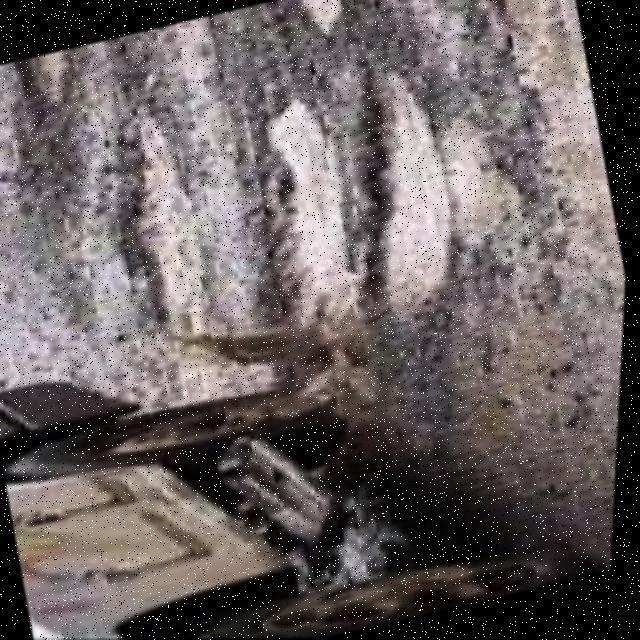pothole: (314, 54, 498, 338), (70, 91, 244, 354)
